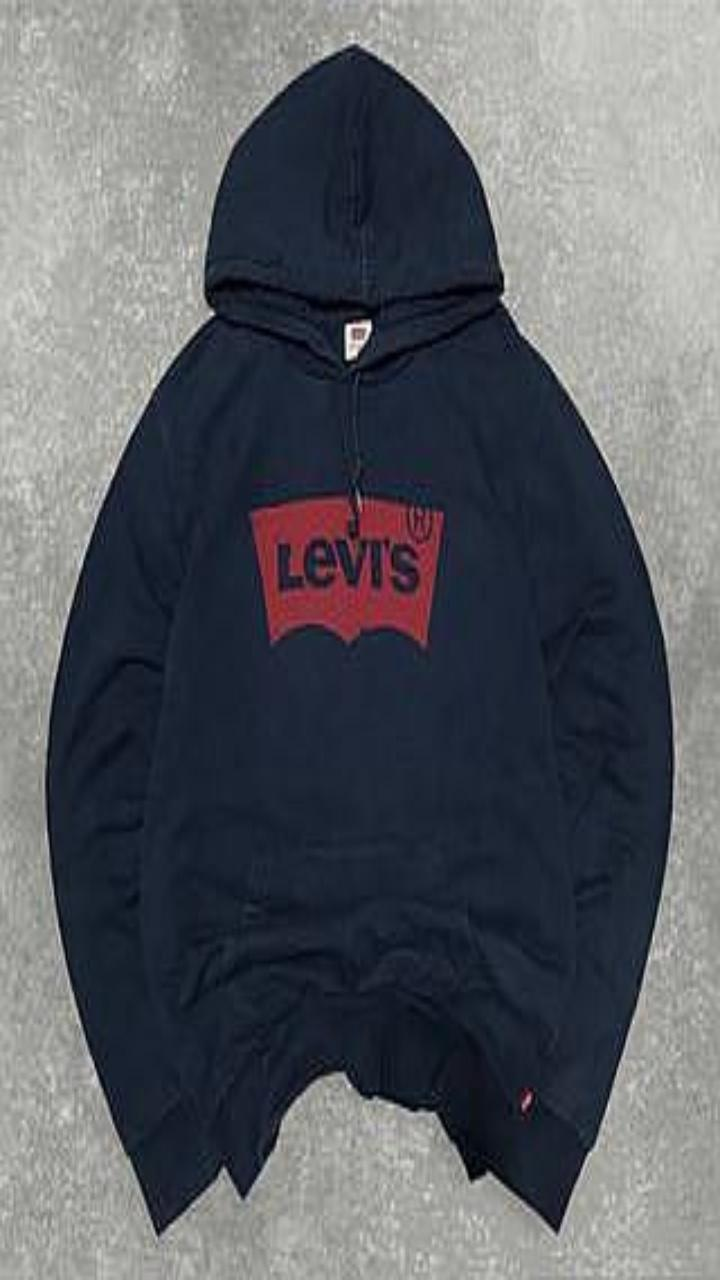Hoodie: (46, 46, 672, 1231)
